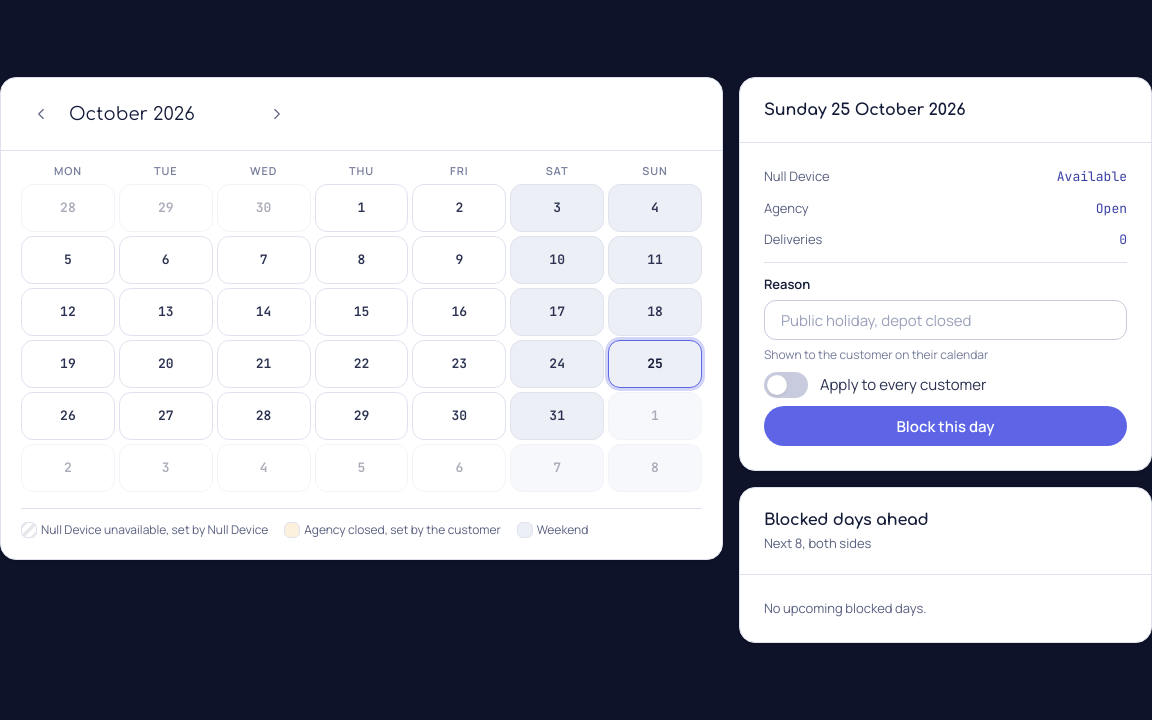
it: ServiceCalendar › reports a customer whose blocks can't be read when applying to everyone, and doesn't block them
The image size is (1152, 720).
Expected: the button "Block this day" is shown, [764,406,1127,446]
Click the switch labelled "Apply to every customer" at (875, 385), box [764,372,986,398]
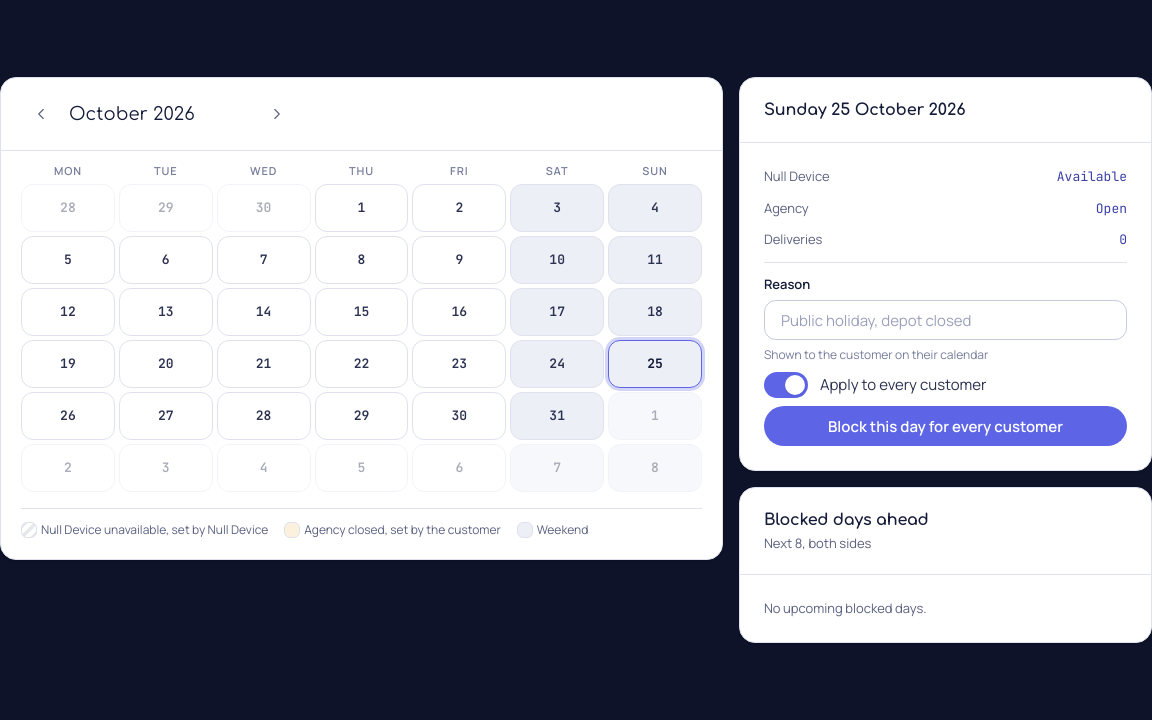
Click the button "Block this day for every customer" at (945, 426), box [764,406,1127,446]
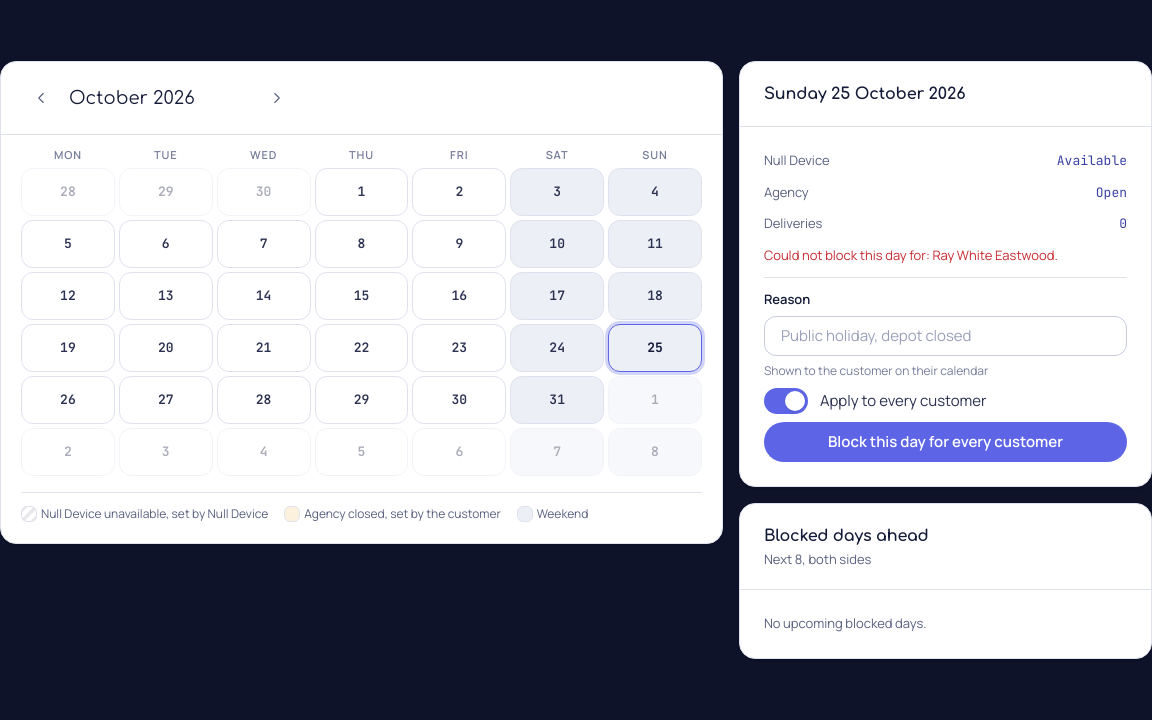
Now the text "Could not block this day for: Ray White Eastwood." is shown, box [764,246,1058,264]
